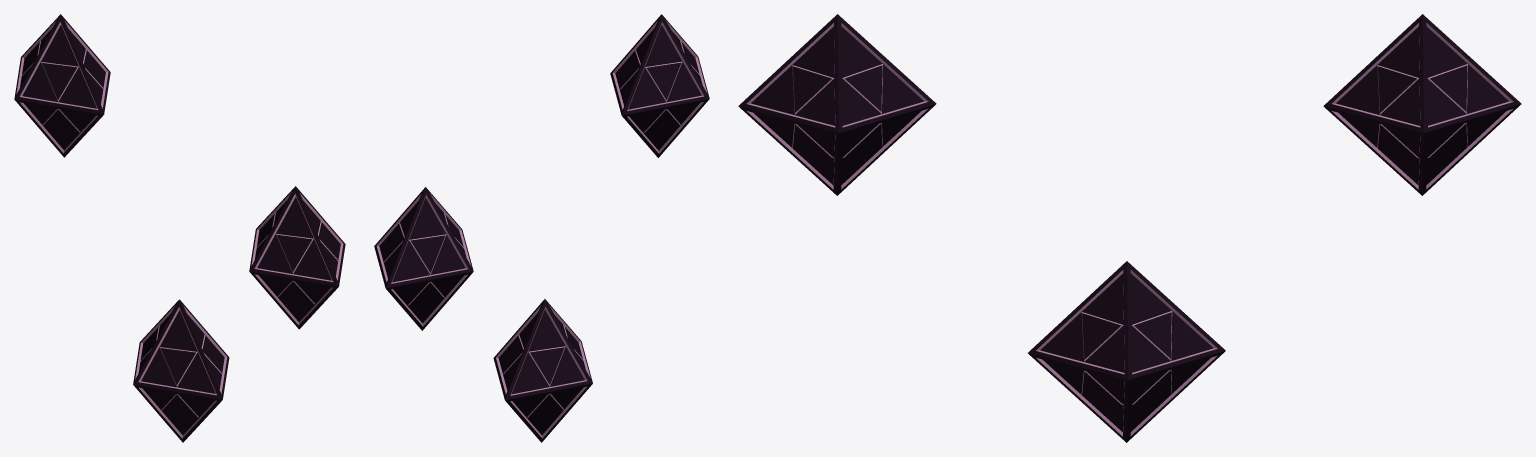
Rendered from midblocks.fbx.
3 views of the same model, side by side, from view 1: azimuth 30°, elevation 25°; view 2: azimuth 150°, elevation 25°; view 3: azimuth 270°, elevation 25° (orthographic). The views are drawn at different scales.
Parts seen in each view (by area): view 1: MidBlocks; view 2: MidBlocks; view 3: MidBlocks.
Boxes of the visible parts, x1,y1,x2,y2 form: MidBlocks: [14, 14, 345, 442]; MidBlocks: [374, 14, 709, 442]; MidBlocks: [738, 14, 1521, 442].
Size of the model in its own units: 2.22 by 7.42 by 12.35.
